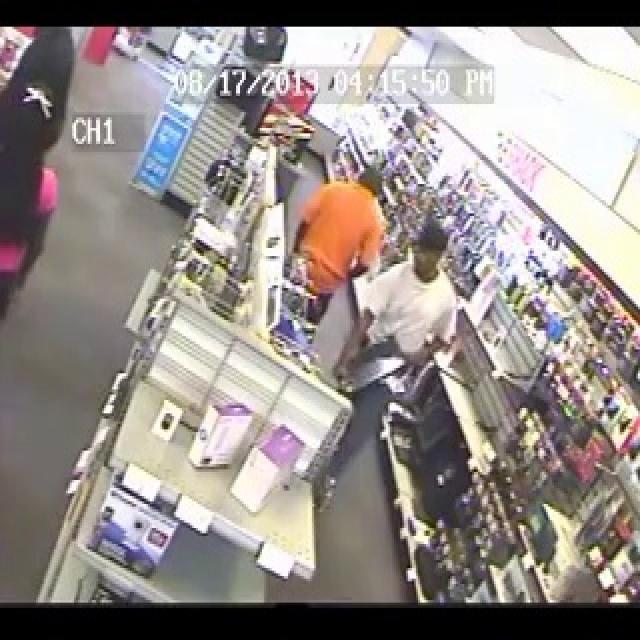normal: (2, 26, 640, 602)
